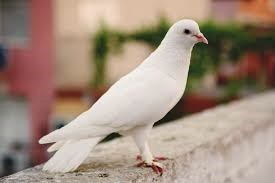pigeon: (37, 16, 209, 176)
